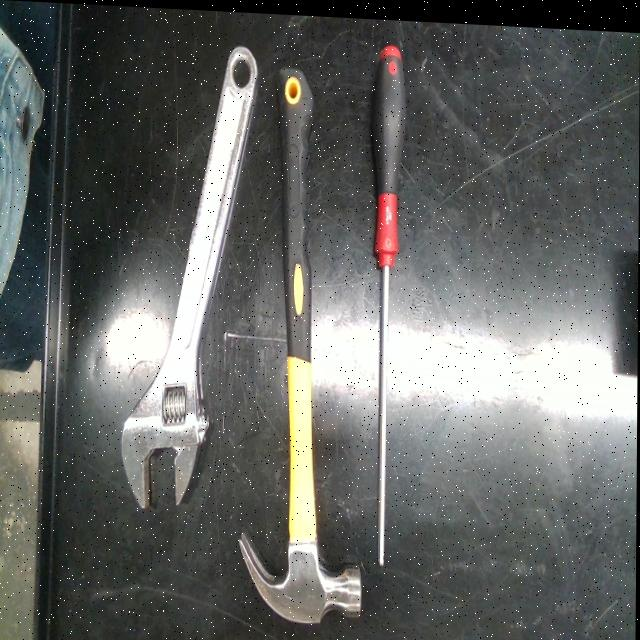Screwdriver: (372, 40, 405, 561)
